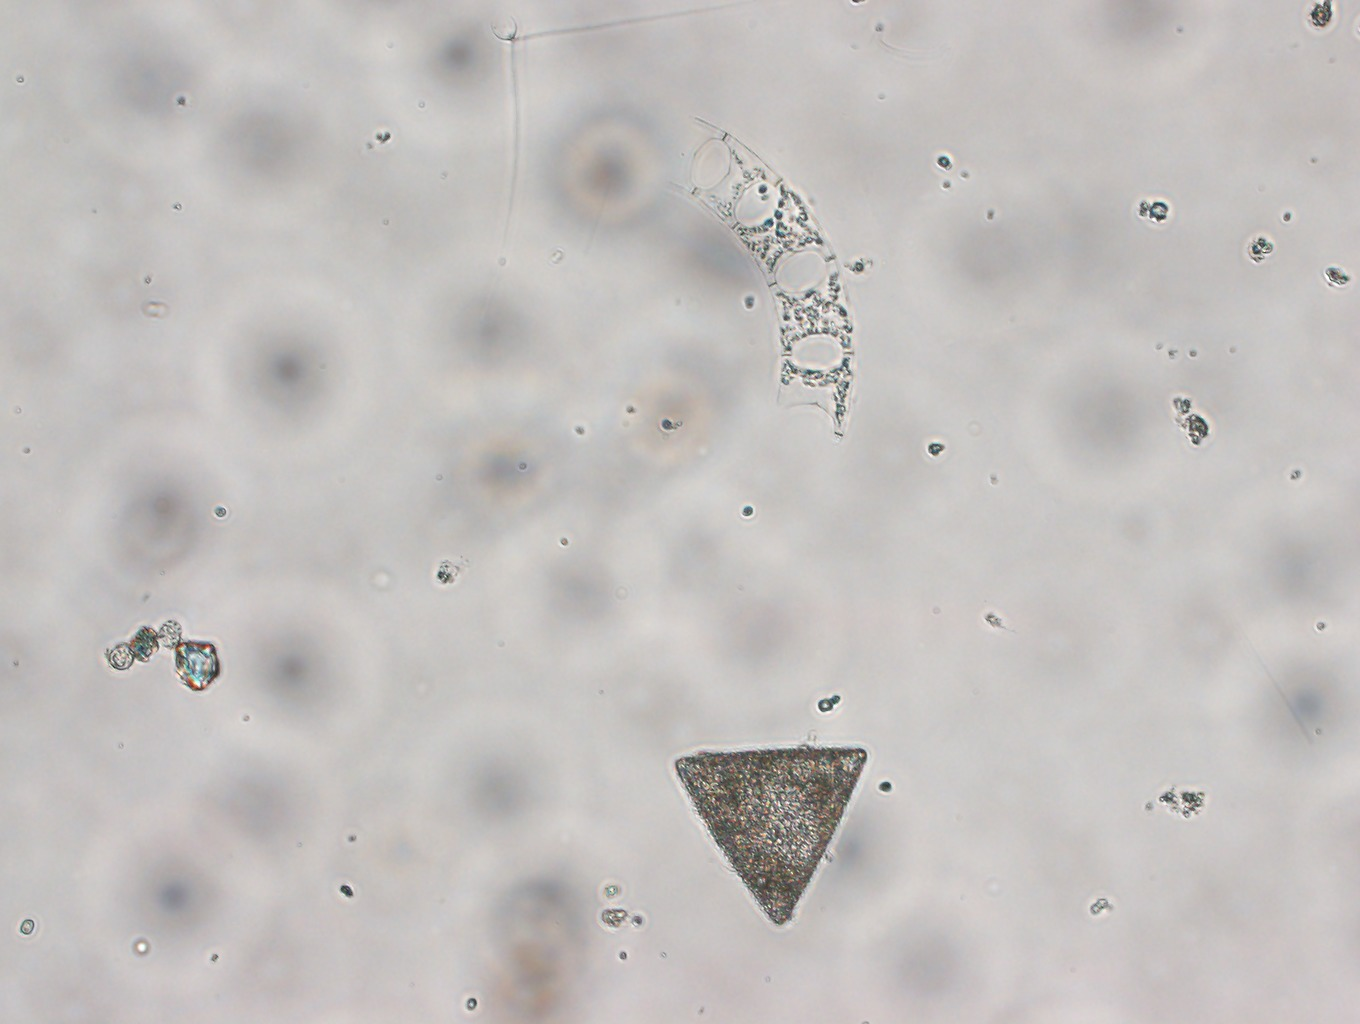eucampia: (664, 105, 861, 453)
